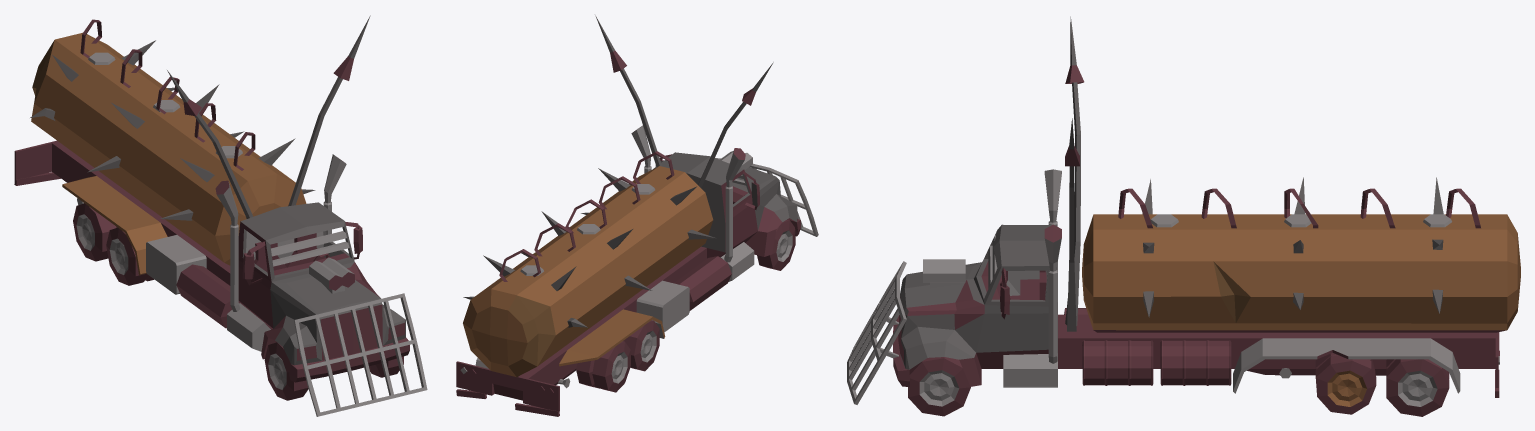
Rendered from car-truck-tanker-apocalypse.fbx.
The picture shows the model from 3 angles, left to right: view 1: azimuth 30°, elevation 25°; view 2: azimuth 150°, elevation 25°; view 3: azimuth 270°, elevation 25°; orthographic projection. The views are drawn at different scales.
Visible parts, largest first — view 1: car-truck-tanker-apocalypse-base, car-truck-tanker-apocalypse-props, car-truck-tanker-apocalypse-wheel_BR2, car-truck-tanker-apocalypse-wheel_BR1, car-truck-tanker-apocalypse-wheel_FR; view 2: car-truck-tanker-apocalypse-base, car-truck-tanker-apocalypse-props, car-truck-tanker-apocalypse-wheel_BR2, car-truck-tanker-apocalypse-wheel_BR1, car-truck-tanker-apocalypse-wheel_FR; view 3: car-truck-tanker-apocalypse-base, car-truck-tanker-apocalypse-props, car-truck-tanker-apocalypse-wheel_BL3, car-truck-tanker-apocalypse-wheel_BL2, car-truck-tanker-apocalypse-wheel_FL.
Part boxes in pixels (bbox=[...]): car-truck-tanker-apocalypse-base: bbox=[14, 32, 409, 382]; car-truck-tanker-apocalypse-props: bbox=[30, 15, 427, 416]; car-truck-tanker-apocalypse-wheel_BR2: bbox=[73, 203, 117, 261]; car-truck-tanker-apocalypse-wheel_BR1: bbox=[106, 227, 154, 285]; car-truck-tanker-apocalypse-wheel_FR: bbox=[264, 342, 308, 400]; car-truck-tanker-apocalypse-base: bbox=[456, 125, 800, 416]; car-truck-tanker-apocalypse-props: bbox=[463, 15, 818, 327]; car-truck-tanker-apocalypse-wheel_BR2: bbox=[576, 341, 630, 392]; car-truck-tanker-apocalypse-wheel_BR1: bbox=[623, 320, 659, 371]; car-truck-tanker-apocalypse-wheel_FR: bbox=[757, 219, 795, 270]; car-truck-tanker-apocalypse-base: bbox=[893, 169, 1520, 397]; car-truck-tanker-apocalypse-props: bbox=[847, 16, 1480, 404]; car-truck-tanker-apocalypse-wheel_BL3: bbox=[1386, 359, 1449, 416]; car-truck-tanker-apocalypse-wheel_BL2: bbox=[1315, 353, 1376, 414]; car-truck-tanker-apocalypse-wheel_FL: bbox=[908, 357, 970, 416].
Size of the model in its own units: 4.34 by 6.08 by 11.5.
